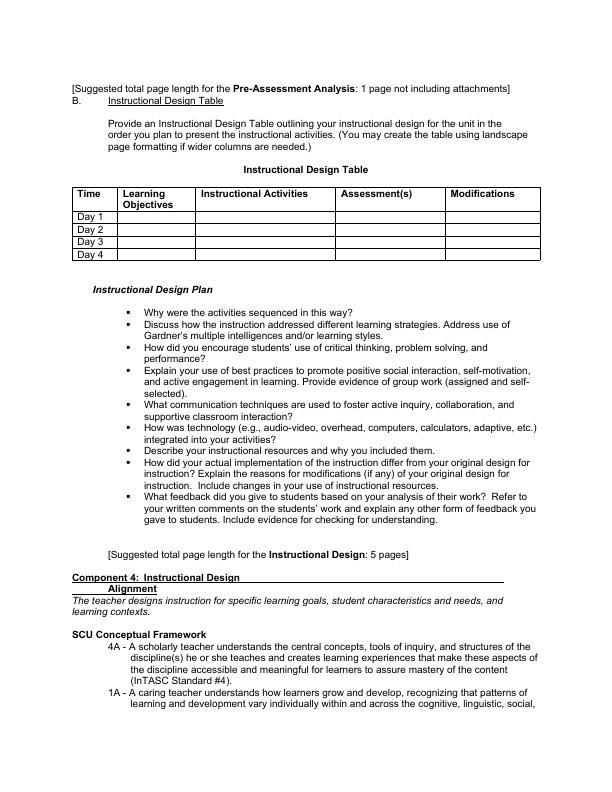table: (69, 183, 547, 270)
text: (86, 278, 549, 530), (64, 627, 555, 720), (64, 76, 536, 153), (68, 593, 510, 620), (103, 544, 420, 566), (69, 570, 241, 585), (236, 160, 372, 176)
